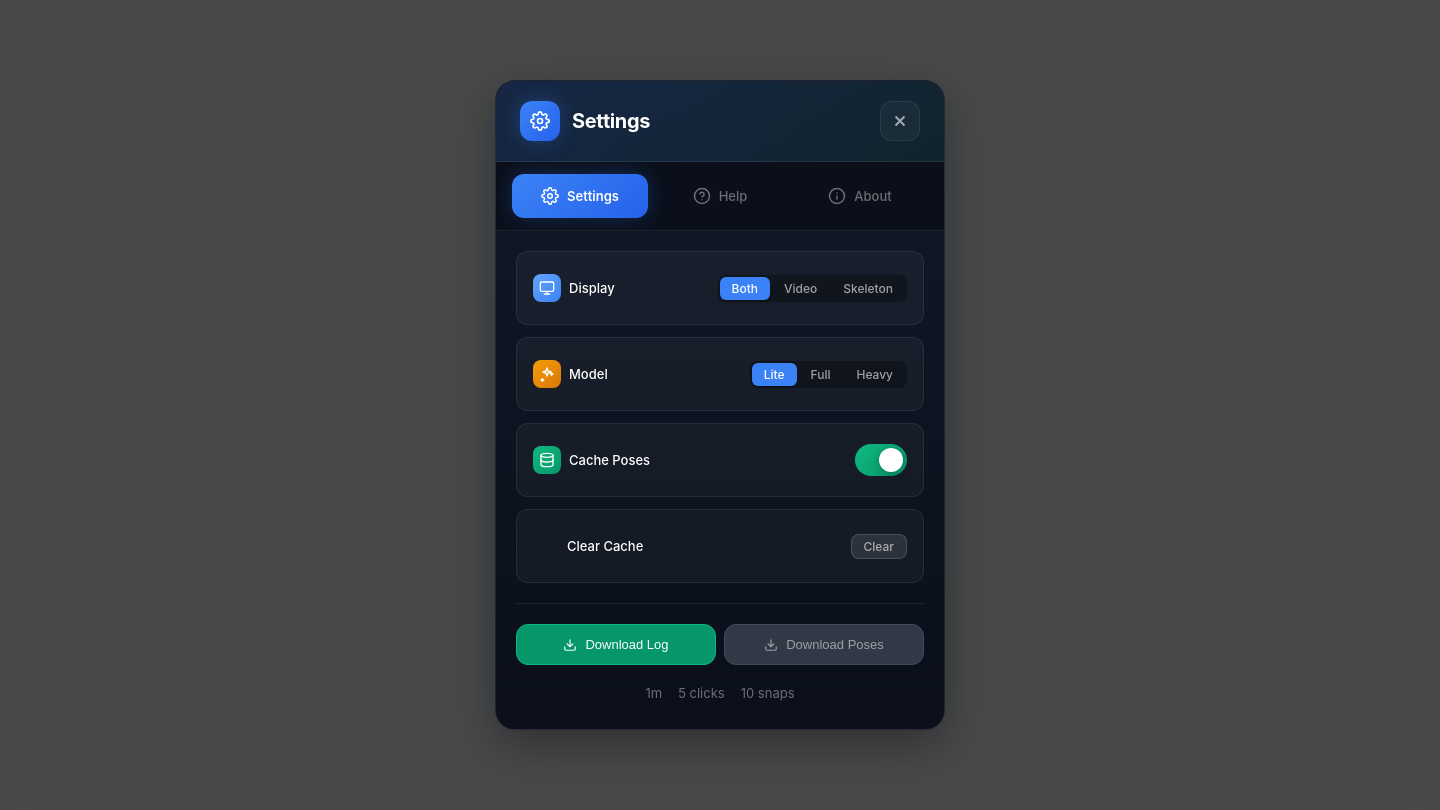
Scenario: SettingsModal › About Tab › shows formatted date when lastCheckTime is set
The width and height of the screenshot is (1440, 810).
Step 1. Click the button "About" → (860, 196), box x1=792 y1=174 x2=928 y2=218
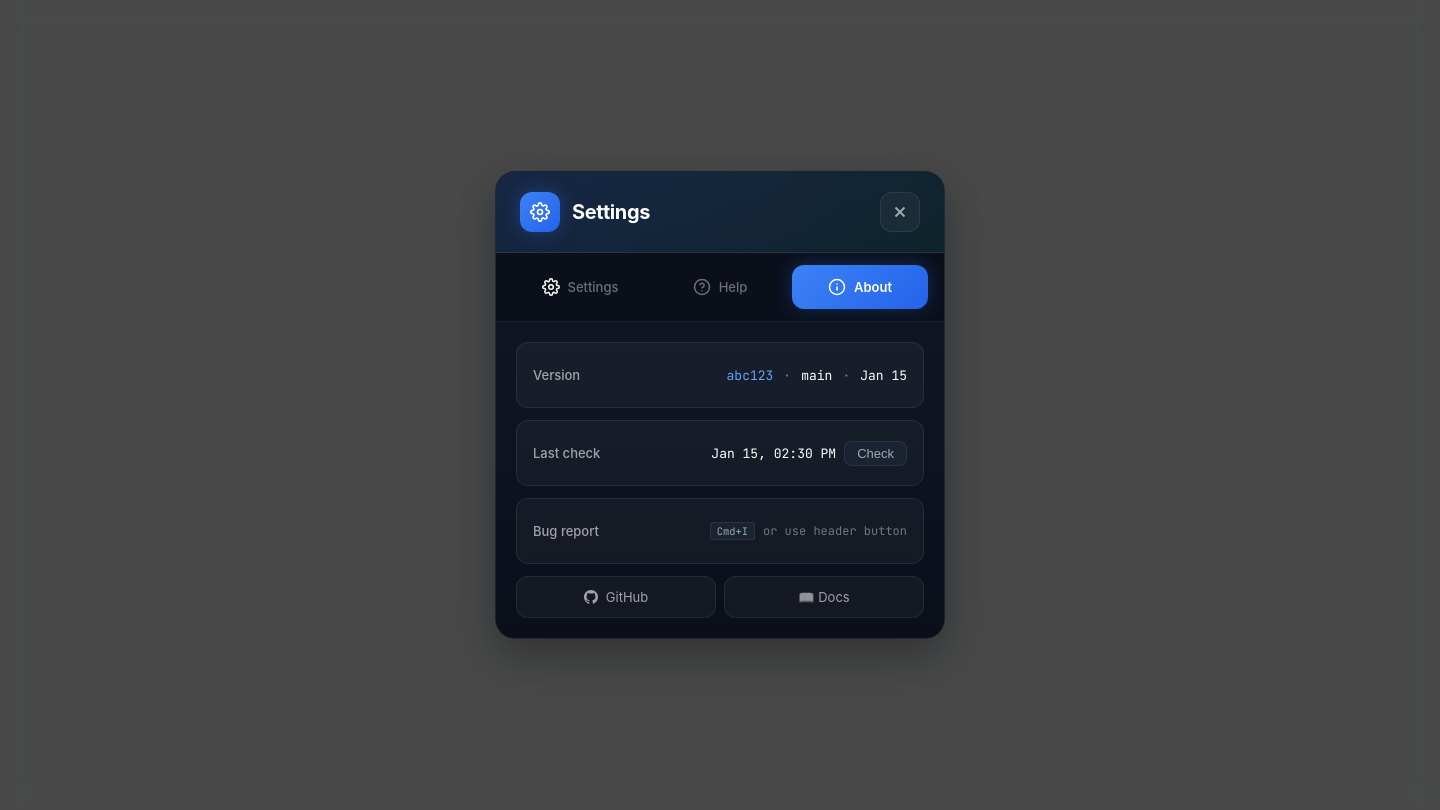
Now the text "abc123 · main · Jan 15" is shown, box x1=726 y1=366 x2=907 y2=384
